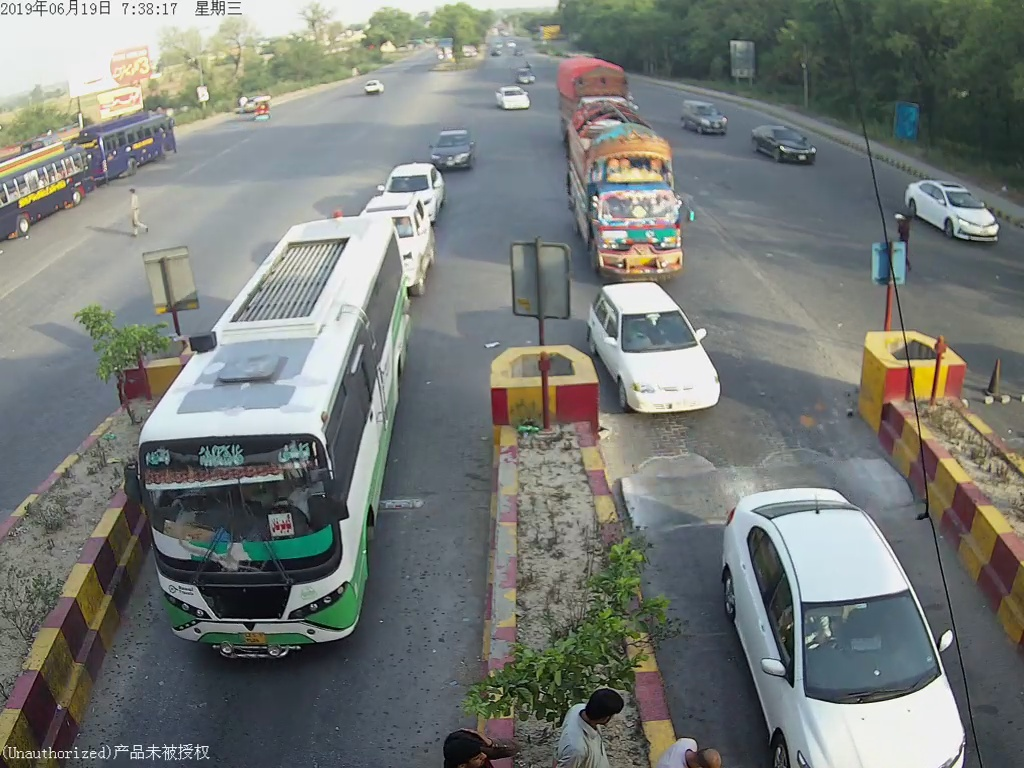Cat-1: (723, 489, 971, 765), (585, 283, 730, 412), (902, 175, 1005, 249), (369, 197, 444, 281), (381, 158, 451, 216), (752, 116, 818, 169), (678, 94, 735, 139), (429, 129, 479, 168), (491, 82, 530, 112)
Cat-3: (131, 204, 417, 659)
Cat-4: (560, 105, 693, 281), (551, 49, 635, 156)
